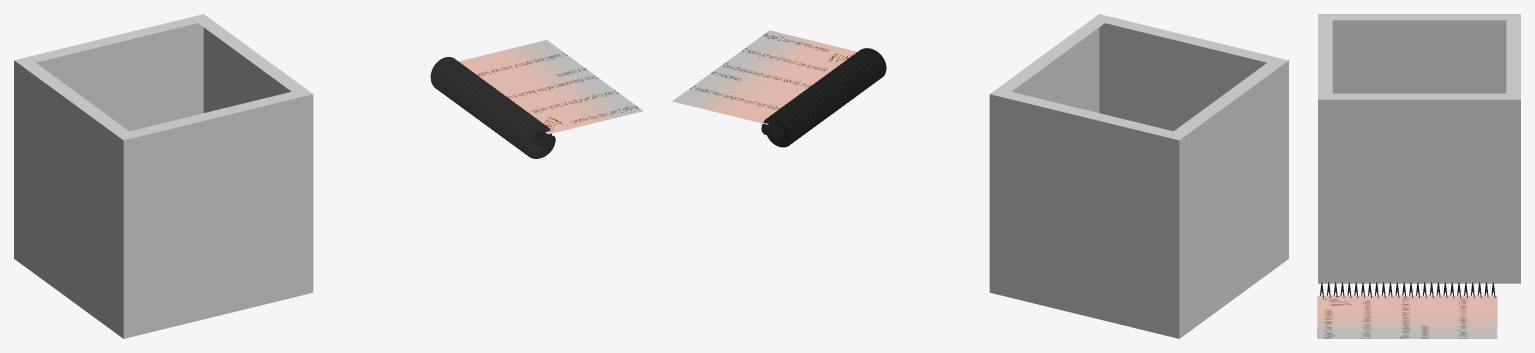
File: Box_Texto1.fbx
3 renders of one model, left to right at view 1: azimuth 30°, elevation 25°; view 2: azimuth 150°, elevation 25°; view 3: azimuth 270°, elevation 25°, orthographic. The views are drawn at different scales.
Visible parts, largest first — view 1: Cube, Plane.001, Circle; view 2: Cube, Plane.001, Circle; view 3: Cube, Plane.001, Circle.
Part boxes in pixels (bbox=[...]): Cube: bbox=[14, 14, 313, 338]; Plane.001: bbox=[459, 40, 643, 134]; Circle: bbox=[430, 57, 555, 158]; Cube: bbox=[989, 14, 1288, 338]; Plane.001: bbox=[672, 30, 857, 124]; Circle: bbox=[761, 48, 886, 147]; Cube: bbox=[1318, 14, 1520, 283]; Plane.001: bbox=[1317, 295, 1497, 338]; Circle: bbox=[1320, 282, 1495, 297].
Bounding box in the file's own units: 548 × 200 × 201.
Materials: 2 (1 with a texture image).
